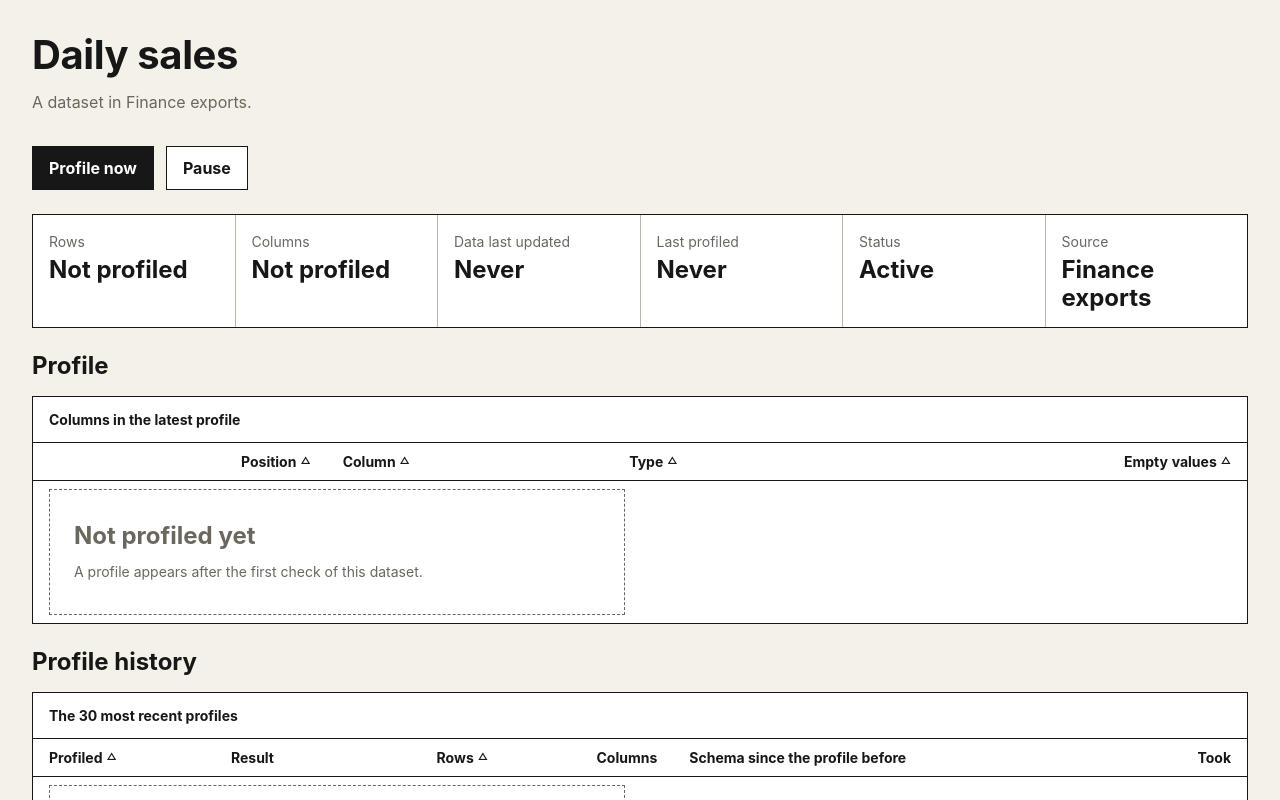
it: Dataset actions › profiles a database dataset now and shows the new profile
Click the button "Profile now" at (93, 168), box [32,146,154,190]
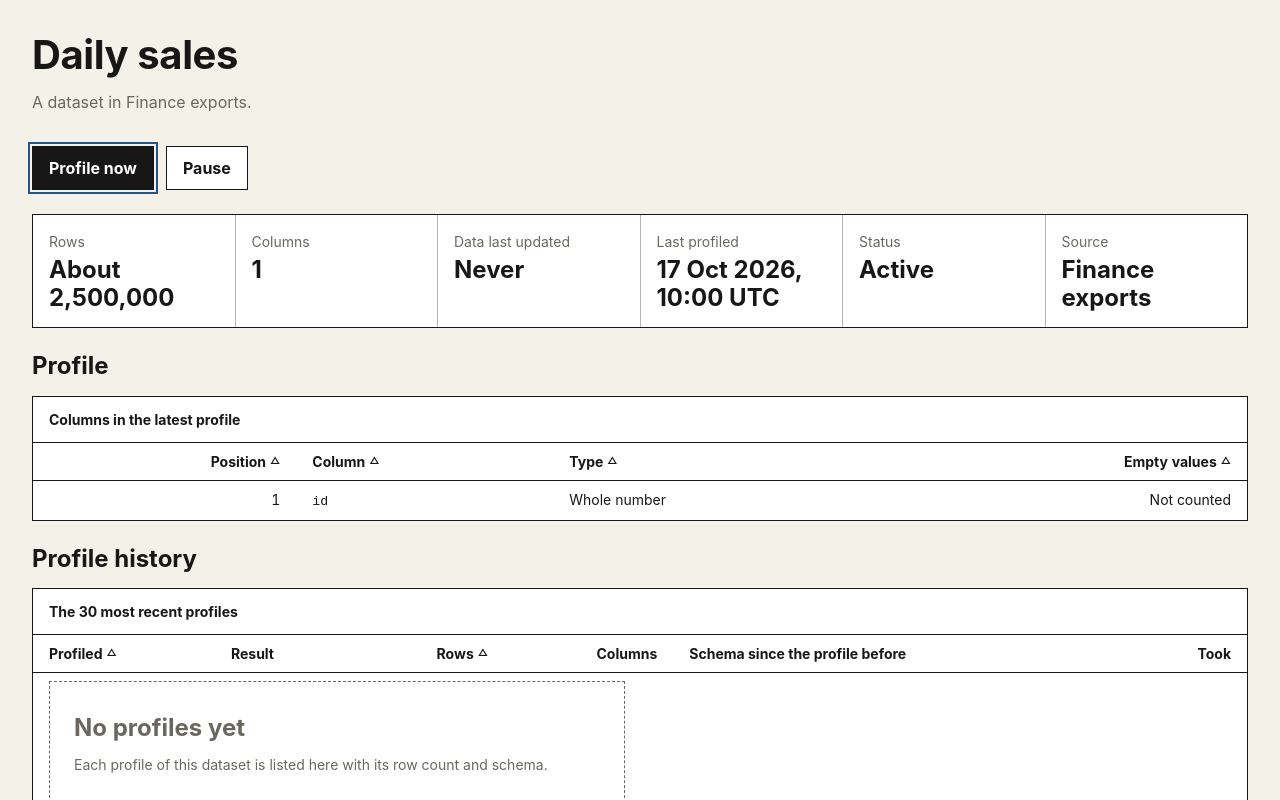
Now the text "About 2,500,000" is shown, box [49,255,174,312]
Now the text "Not counted" is shown, box [887,480,1247,520]
